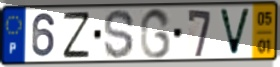6: (30, 12, 57, 60)
7: (187, 7, 212, 58)
G: (138, 6, 172, 61)
S: (102, 8, 136, 61)
V: (217, 7, 253, 58)
Z: (61, 10, 91, 60)
